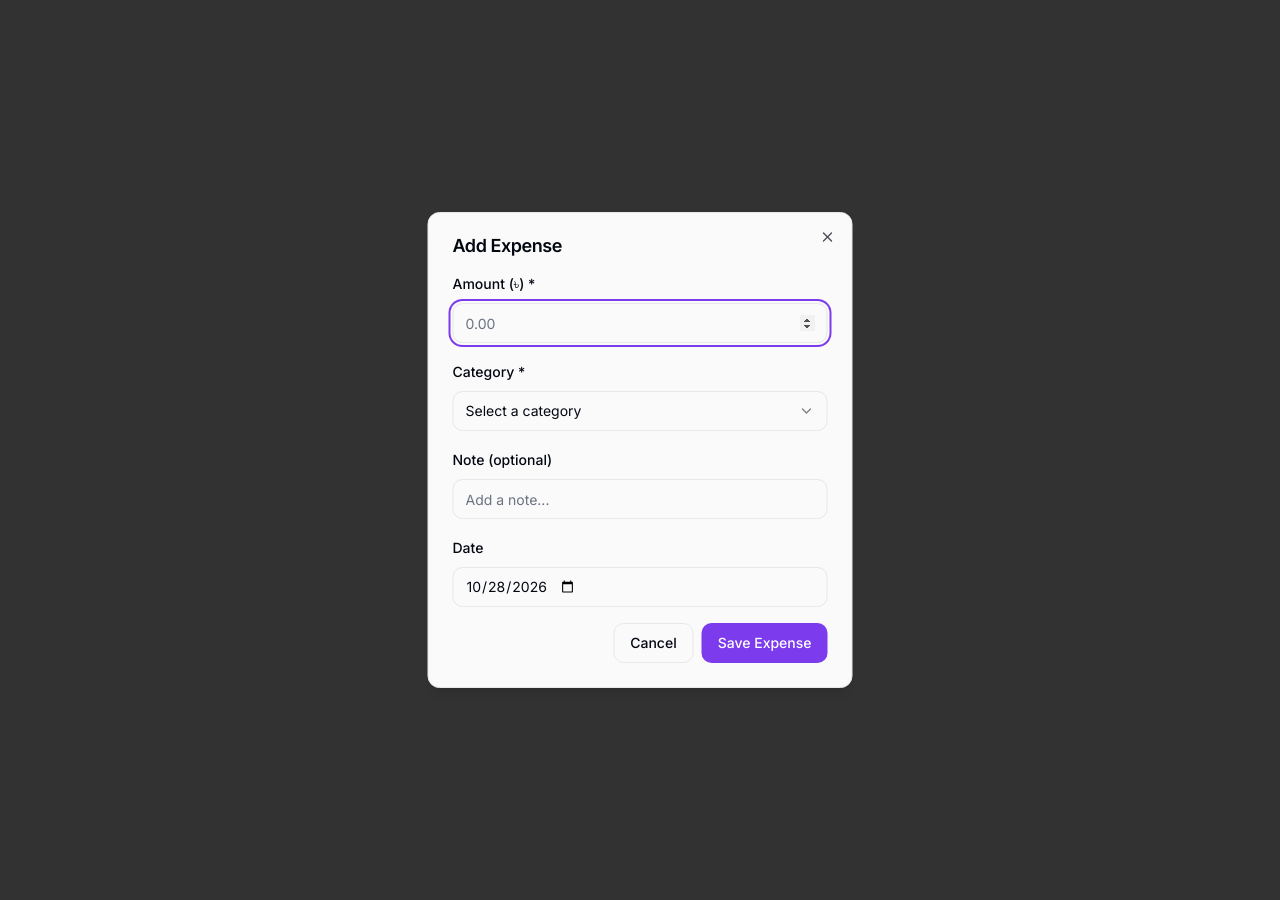
Scenario: ExpenseFormDialog › adds a new category inline and selects it, without submitting the expense
Click the dropdown. click: click(523, 410)
box: left=452, top=391, right=828, bottom=431
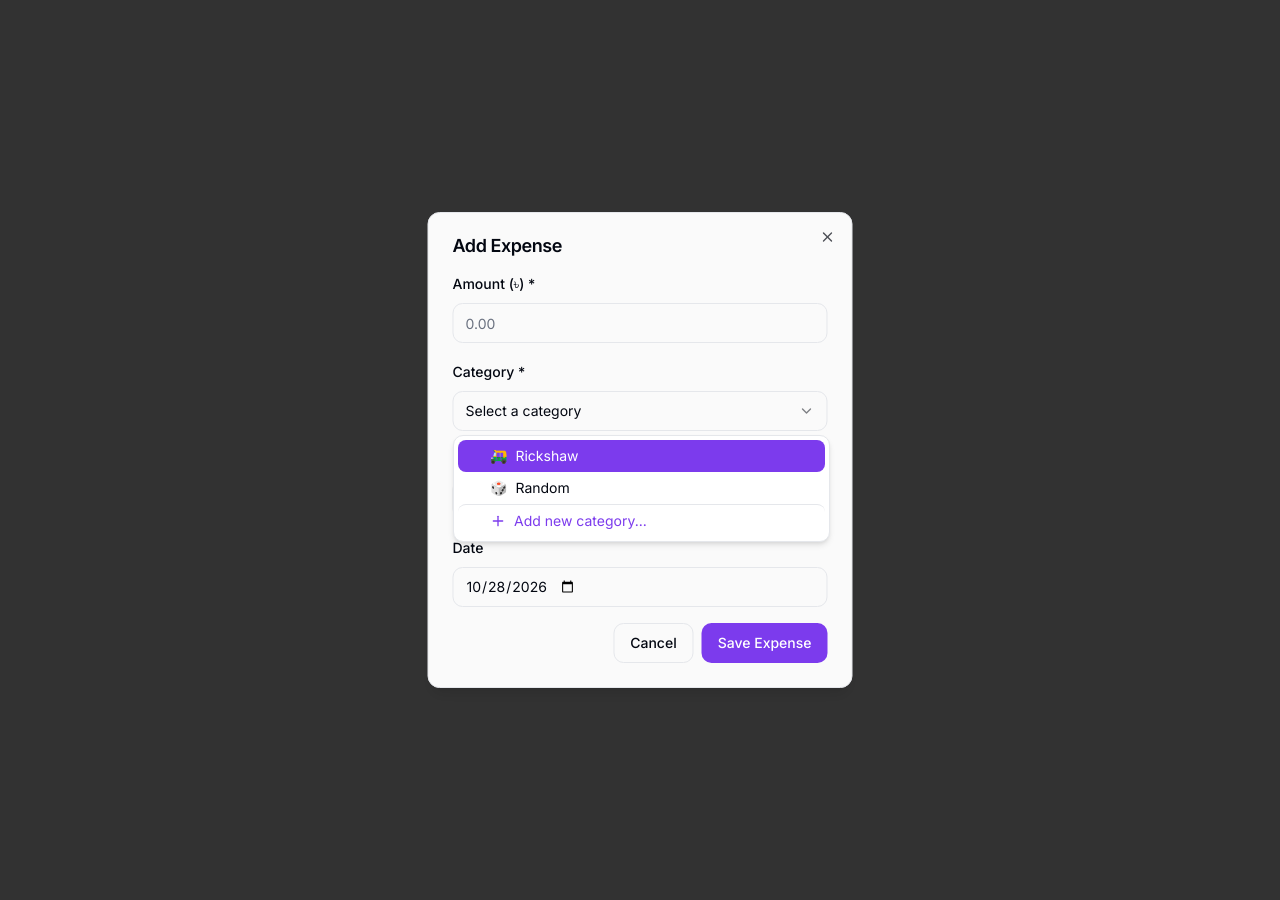
Click the option "Add new category...". click: click(642, 520)
box: left=458, top=504, right=825, bottom=537
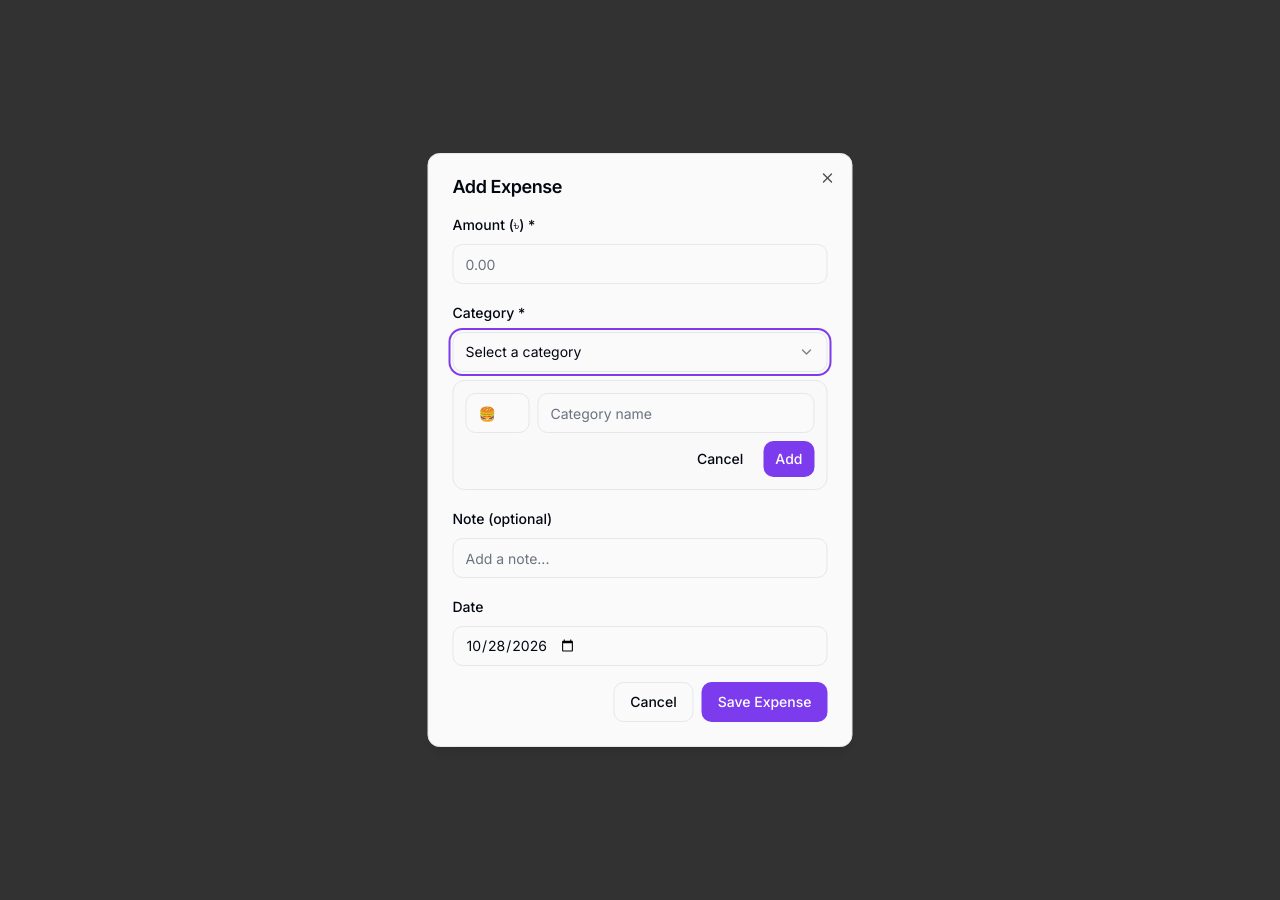
Type "💪" into the field named "New category icon". click: (498, 413)
box: left=466, top=393, right=530, bottom=433
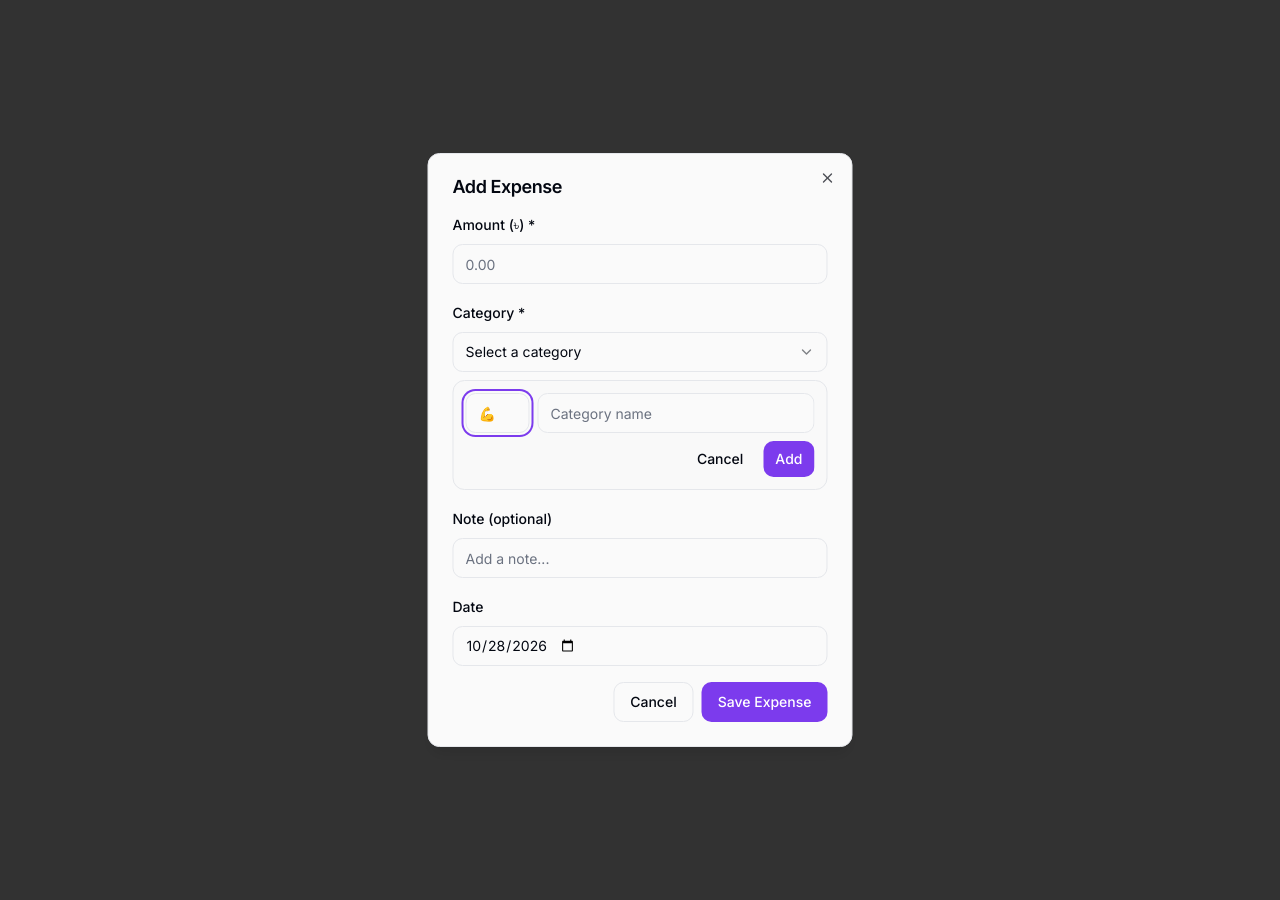
Type "Gym" into the field named "New category name". click: (676, 413)
box: left=538, top=393, right=814, bottom=433
Then press Enter
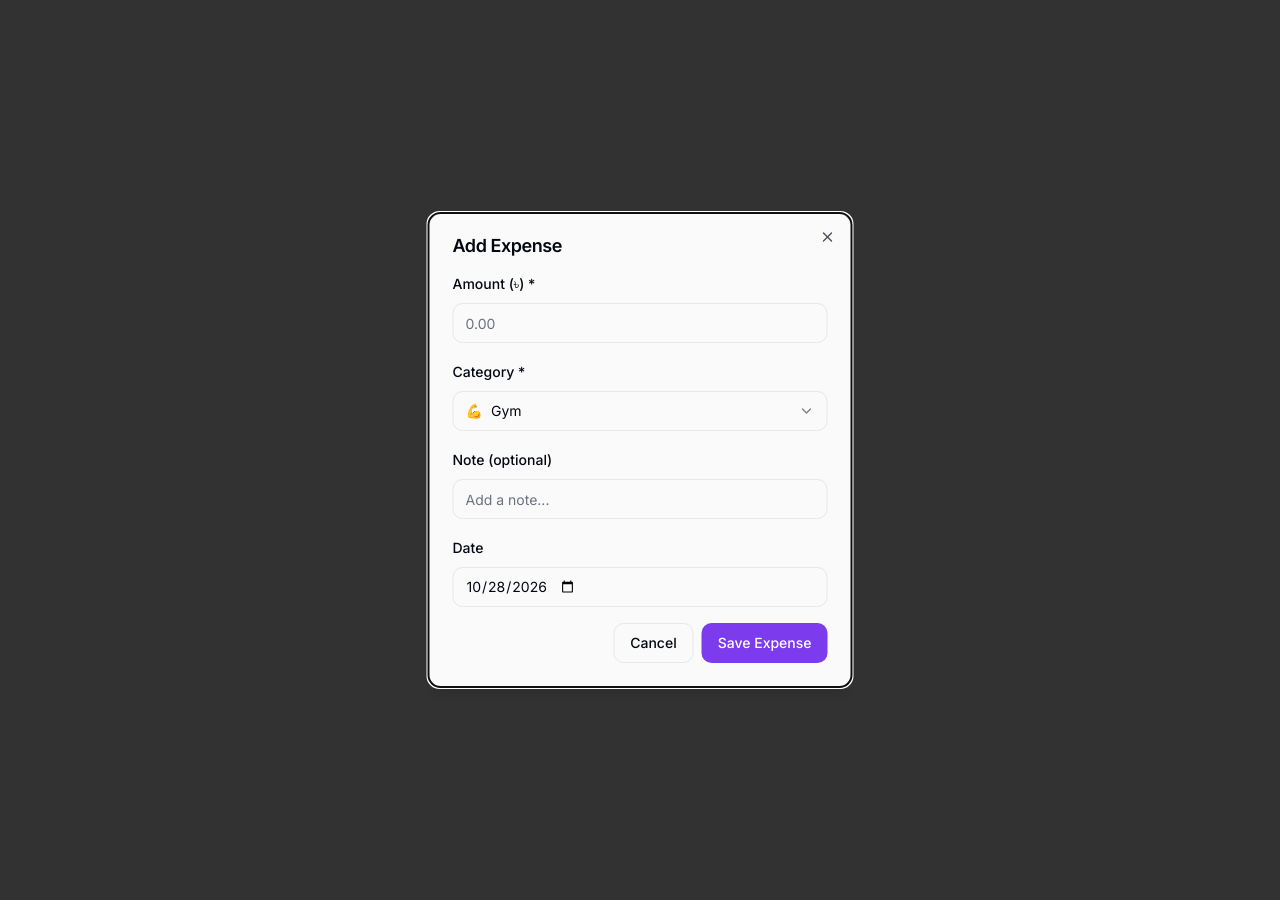
Expected: the dropdown shows "Gym", left=452, top=391, right=828, bottom=431
